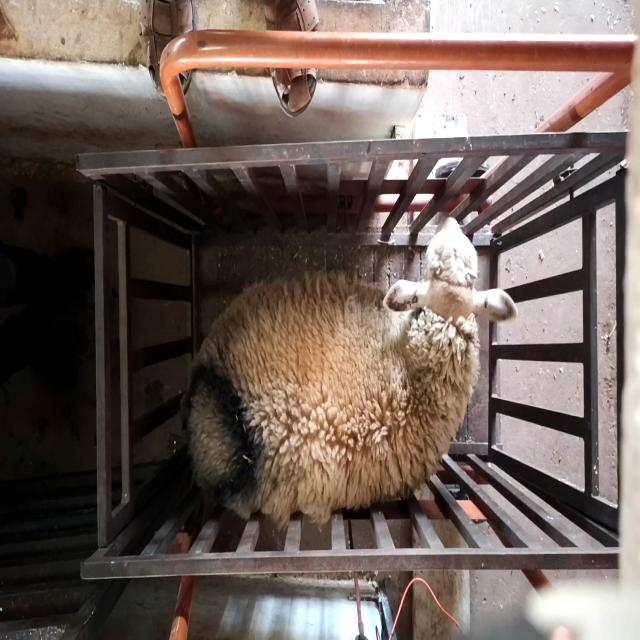sheep: (180, 215, 521, 528)
